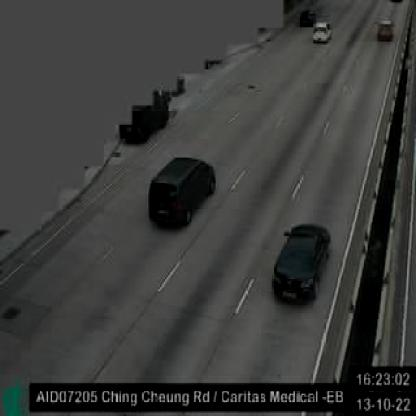Car: (270, 224, 331, 306), (147, 156, 214, 230), (314, 20, 334, 42), (378, 18, 394, 40), (299, 10, 316, 27)
